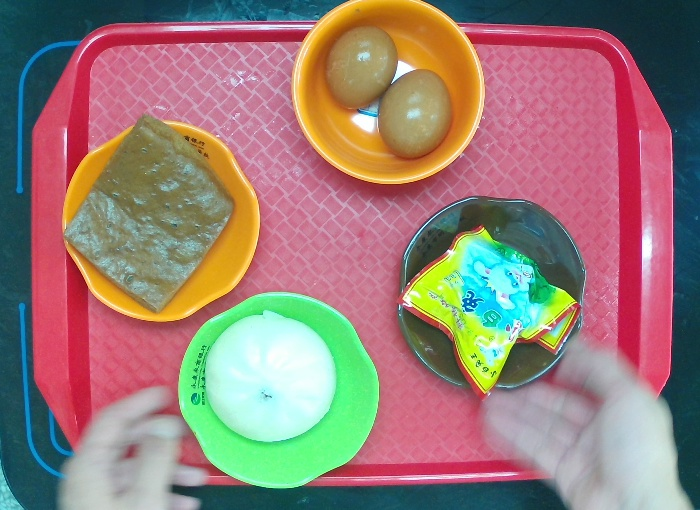YKMZ-Ju_Se_Ao_Bian_Wan: (57, 111, 265, 328)
YKMZ-Ju_Se_Yuan_Wan: (284, 1, 493, 216)
YKMZ-Ka_Fei_Ao_Bian_Wan: (390, 188, 595, 404)
YKMZ-Lv_Se_Ao_Bian_Wan: (165, 286, 390, 496)
